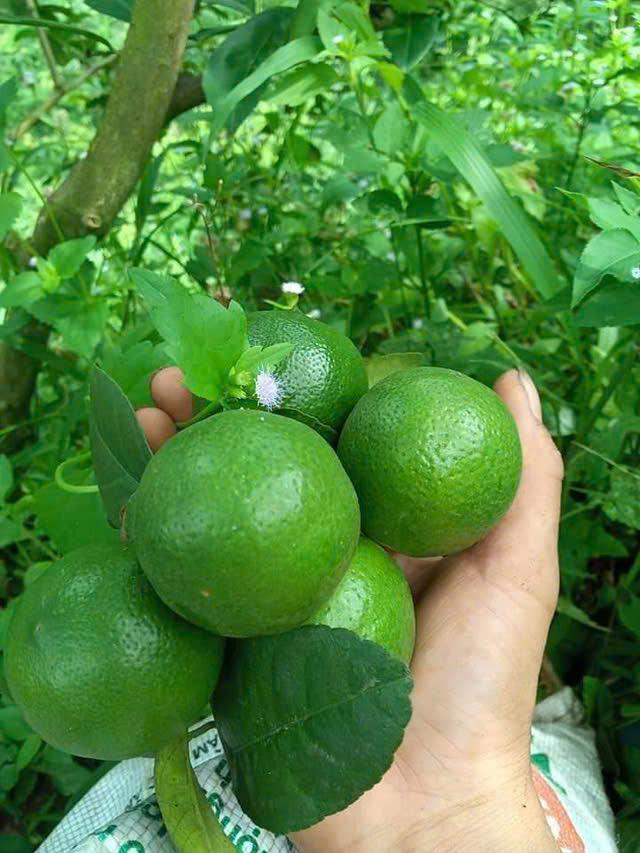lime: (118, 418, 374, 634)
